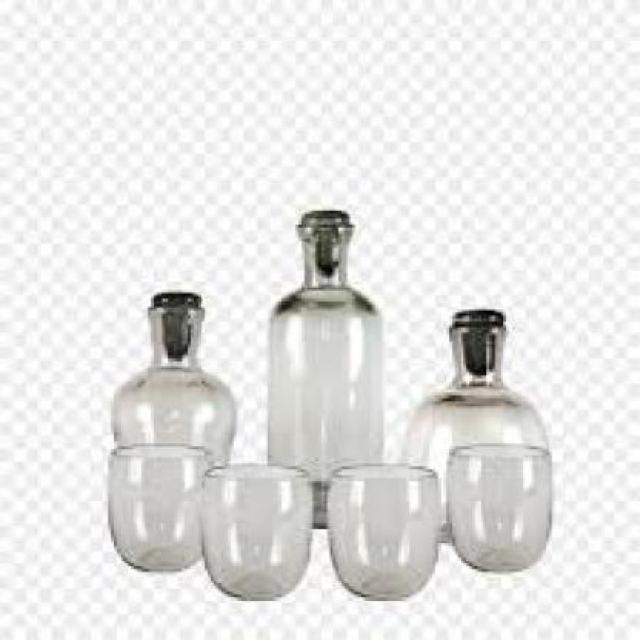kaca: (267, 218, 378, 530), (399, 322, 543, 540), (107, 291, 230, 478), (322, 464, 438, 598), (202, 462, 310, 592), (446, 442, 552, 569), (106, 442, 205, 572), (292, 204, 342, 224), (452, 308, 503, 324), (151, 290, 194, 308)
